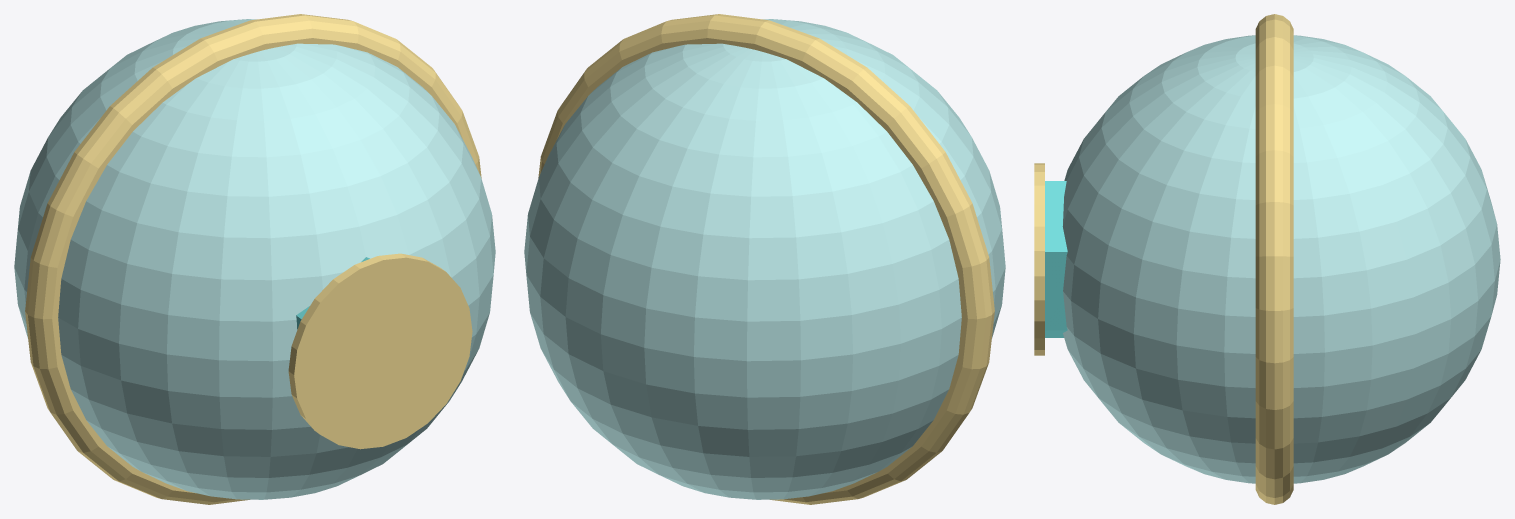
Rendered from shield.glb.
The picture shows the model from 3 angles, left to right: view 1: azimuth 30°, elevation 25°; view 2: azimuth 150°, elevation 25°; view 3: azimuth 270°, elevation 25°; orthographic projection. The views are drawn at different scales.
Parts seen in each view (by area): view 1: item_shield; view 2: item_shield; view 3: item_shield.
Boxes of the visible parts, x1,y1,x2,y2 form: item_shield: (14, 14, 495, 504); item_shield: (524, 14, 1005, 504); item_shield: (1034, 14, 1500, 504).
Size of the model in its own units: 0.652 by 0.652 by 0.619.
